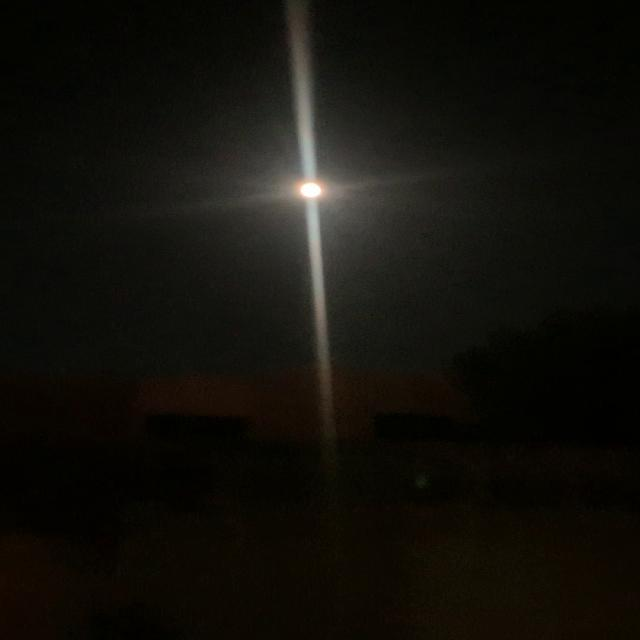moon: (284, 178, 348, 211)
